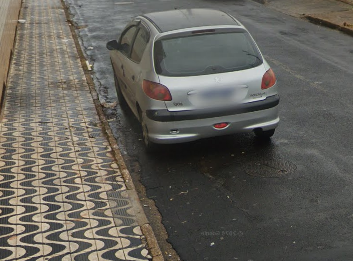car: (102, 4, 284, 158)
